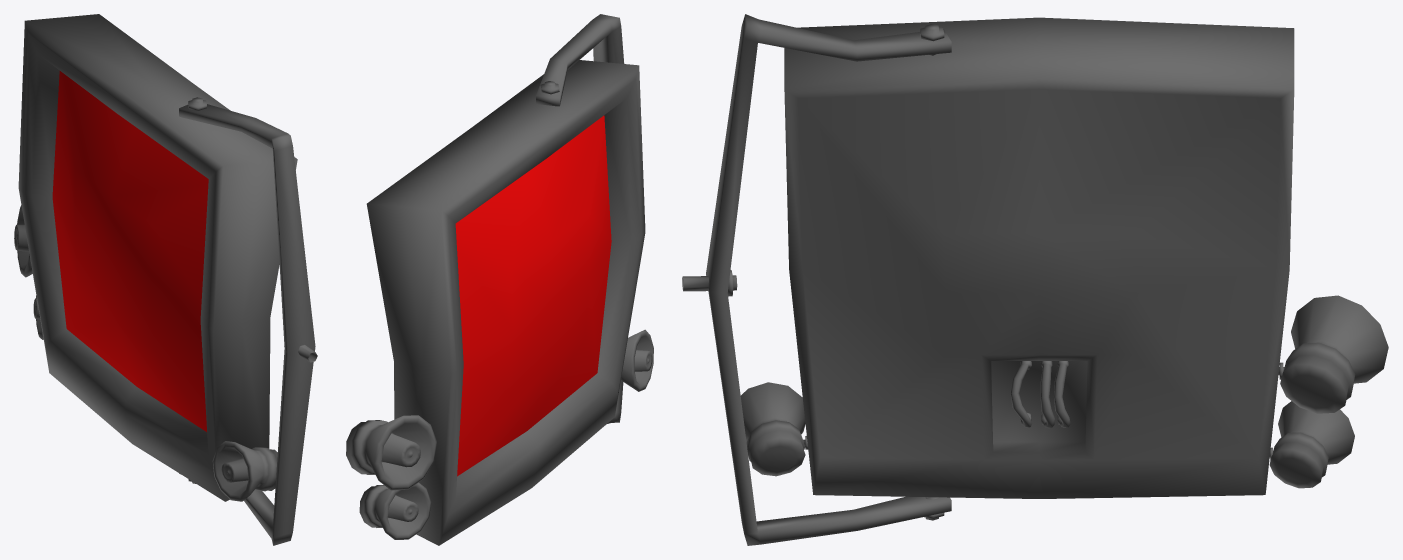
File: MOD_TeleB.FBX
The picture shows the model from 3 angles, left to right: view 1: azimuth 30°, elevation 25°; view 2: azimuth 150°, elevation 25°; view 3: azimuth 270°, elevation 25°; orthographic projection. The views are drawn at different scales.
Visible parts, largest first — view 1: MOD_TeleB; view 2: MOD_TeleB; view 3: MOD_TeleB.
Boxes of the visible parts, box(x1,y1,x2,y2) form: MOD_TeleB: box(14, 14, 317, 545); MOD_TeleB: box(346, 14, 653, 545); MOD_TeleB: box(682, 14, 1388, 545).
Size of the model in its own units: 83.73 by 305 by 375.
